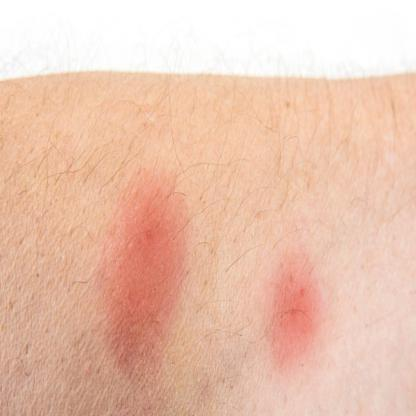Bed Bug: (96, 167, 191, 374), (260, 245, 326, 370)
